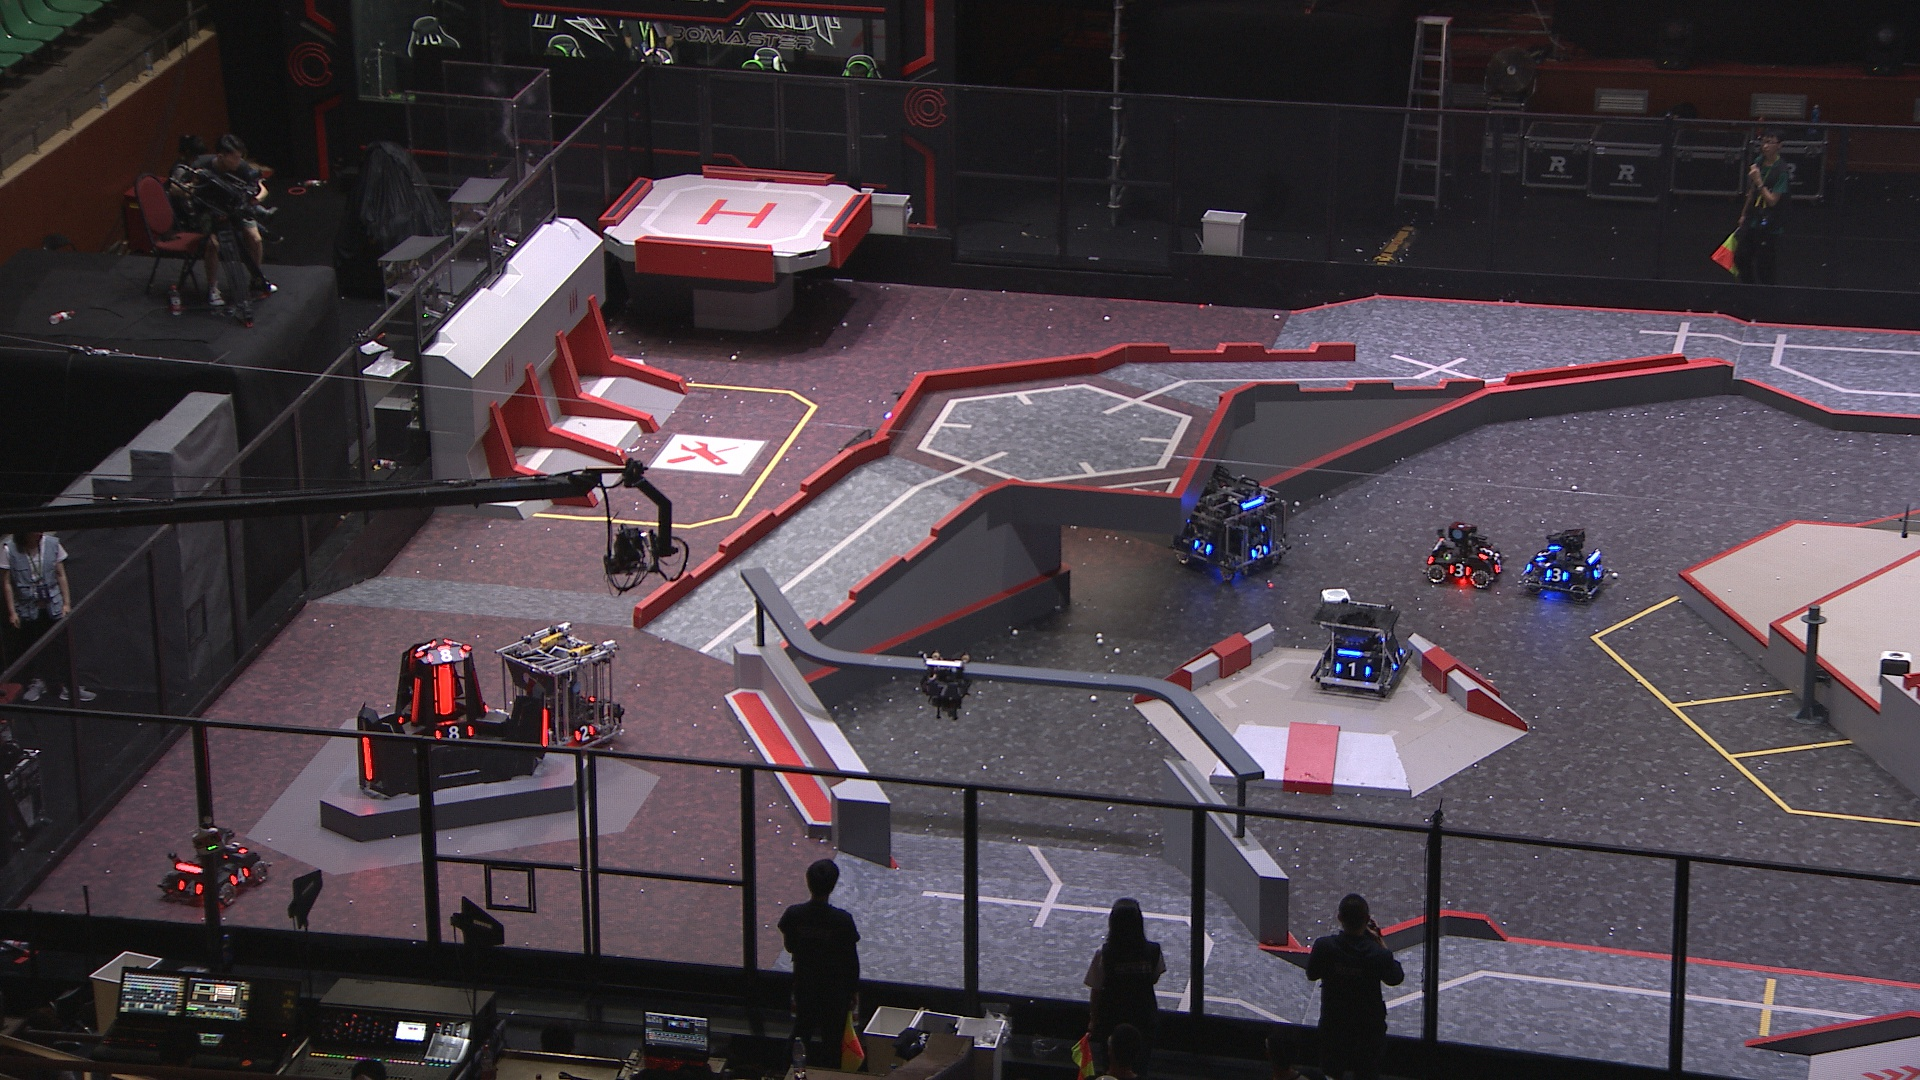armor: (430, 665, 455, 713), (433, 723, 472, 745), (407, 678, 423, 723), (1333, 662, 1371, 679), (423, 647, 468, 662), (926, 684, 967, 700), (361, 735, 375, 781), (173, 878, 204, 897), (539, 705, 551, 746), (1447, 564, 1476, 580), (228, 866, 252, 885), (1544, 566, 1571, 582), (574, 727, 596, 745), (1191, 538, 1215, 555), (1249, 543, 1269, 560), (411, 641, 433, 657), (1390, 650, 1404, 671), (1476, 546, 1495, 560), (224, 843, 247, 855), (1590, 564, 1605, 580), (1534, 549, 1551, 562), (1491, 560, 1505, 575)
base: (351, 636, 555, 796)
car: (496, 622, 622, 757), (1171, 462, 1287, 582), (158, 823, 268, 911), (1309, 597, 1410, 692), (1514, 527, 1614, 605), (1427, 520, 1509, 589)
watcher: (916, 651, 972, 721)
